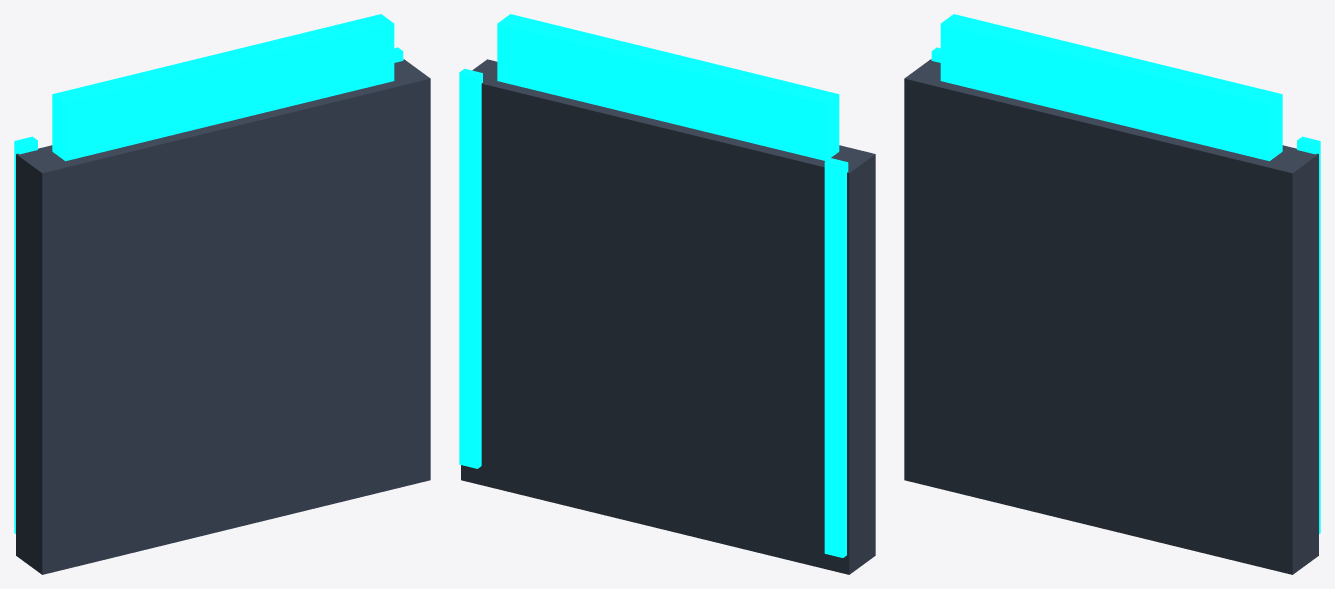
The model's file is TacticalCover_BallisticBarrier.fbx.
3 views of the same model, side by side, from view 1: azimuth 30°, elevation 25°; view 2: azimuth 150°, elevation 25°; view 3: azimuth 330°, elevation 25° (orthographic).
Visible parts, largest first — view 1: BallisticShield_ArmorPlate, Shield_BallisticVisor, Shield_NeonEdge_-0.4; view 2: BallisticShield_ArmorPlate, Shield_BallisticVisor, Shield_NeonEdge_-0.4, Shield_NeonEdge_0.4; view 3: BallisticShield_ArmorPlate, Shield_BallisticVisor, Shield_NeonEdge_0.4.
Boxes of the visible parts, x1=… form: BallisticShield_ArmorPlate: x1=16, y1=59, x2=430, y2=574; Shield_BallisticVisor: x1=52, y1=14, x2=394, y2=161; Shield_NeonEdge_-0.4: x1=14, y1=136, x2=37, y2=533; BallisticShield_ArmorPlate: x1=461, y1=59, x2=875, y2=574; Shield_BallisticVisor: x1=497, y1=14, x2=839, y2=160; Shield_NeonEdge_-0.4: x1=824, y1=158, x2=848, y2=557; Shield_NeonEdge_0.4: x1=459, y1=68, x2=482, y2=468; BallisticShield_ArmorPlate: x1=904, y1=59, x2=1318, y2=574; Shield_BallisticVisor: x1=940, y1=14, x2=1282, y2=161; Shield_NeonEdge_0.4: x1=1297, y1=136, x2=1320, y2=533.
Size of what is drawn, in the model's own units: 0.85 by 0.96 by 0.115.
